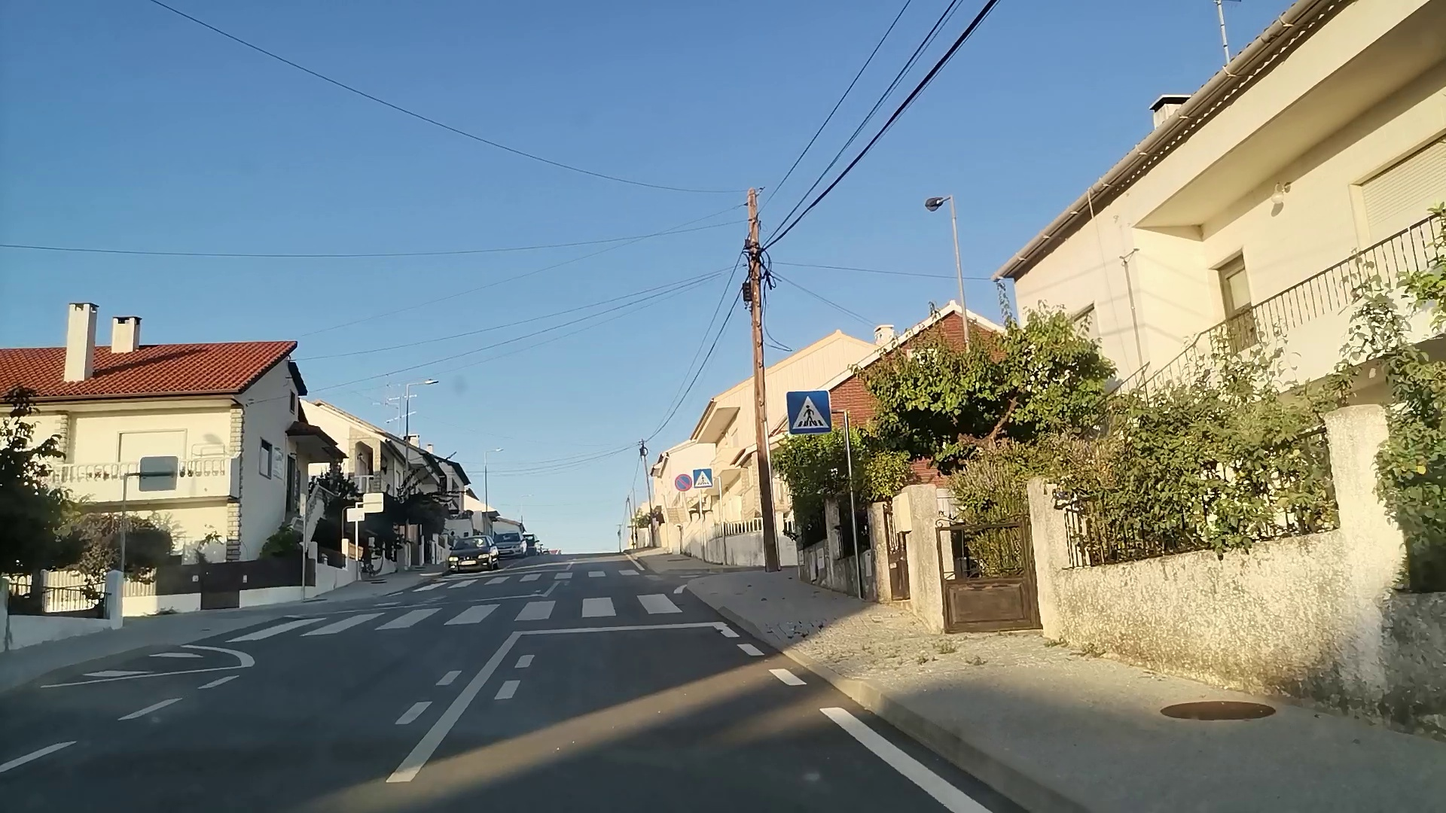Stairs: (246, 593, 700, 639), (422, 565, 643, 591)
